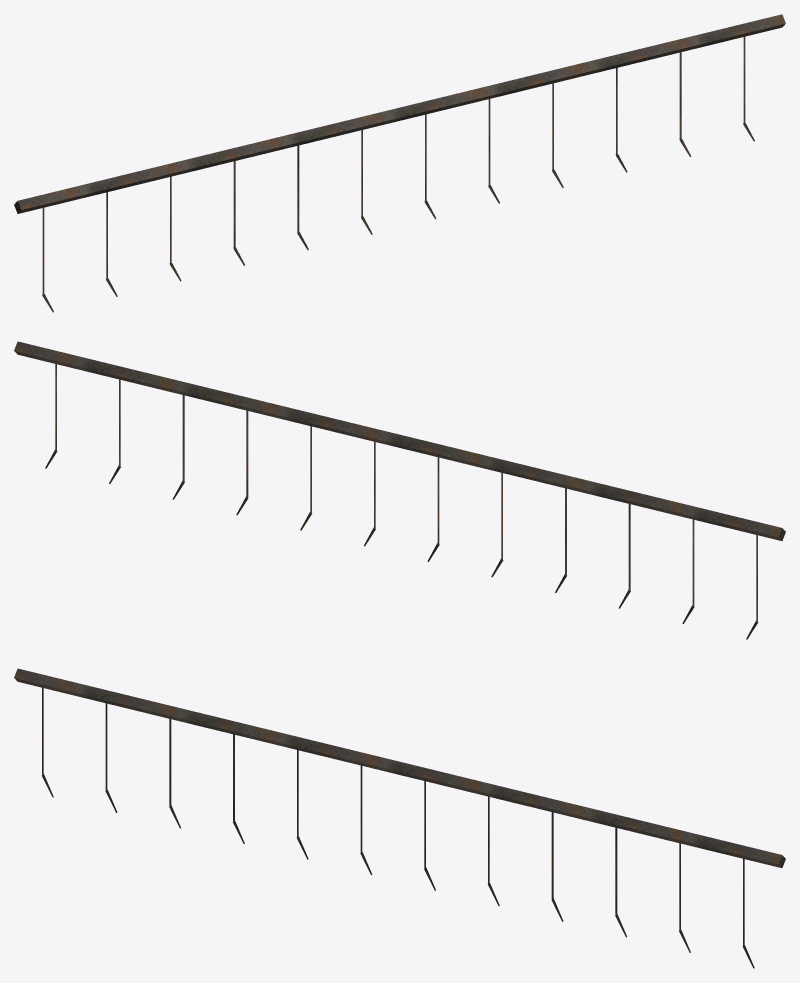
The model's file is ganchos.obj.
3 renders of one model, top to bottom at view 1: azimuth 30°, elevation 25°; view 2: azimuth 150°, elevation 25°; view 3: azimuth 330°, elevation 25°, orthographic.
Visible parts, largest first — view 1: ganchos; view 2: ganchos; view 3: ganchos.
Boxes of the visible parts, left/top/right/bottom form: ganchos: left=14, top=14, right=785, bottom=312; ganchos: left=14, top=341, right=785, bottom=639; ganchos: left=14, top=668, right=785, bottom=968.
Size of the model in its own units: 6 by 0.9024 by 0.1.
Materials: 1 (1 with a texture image).
